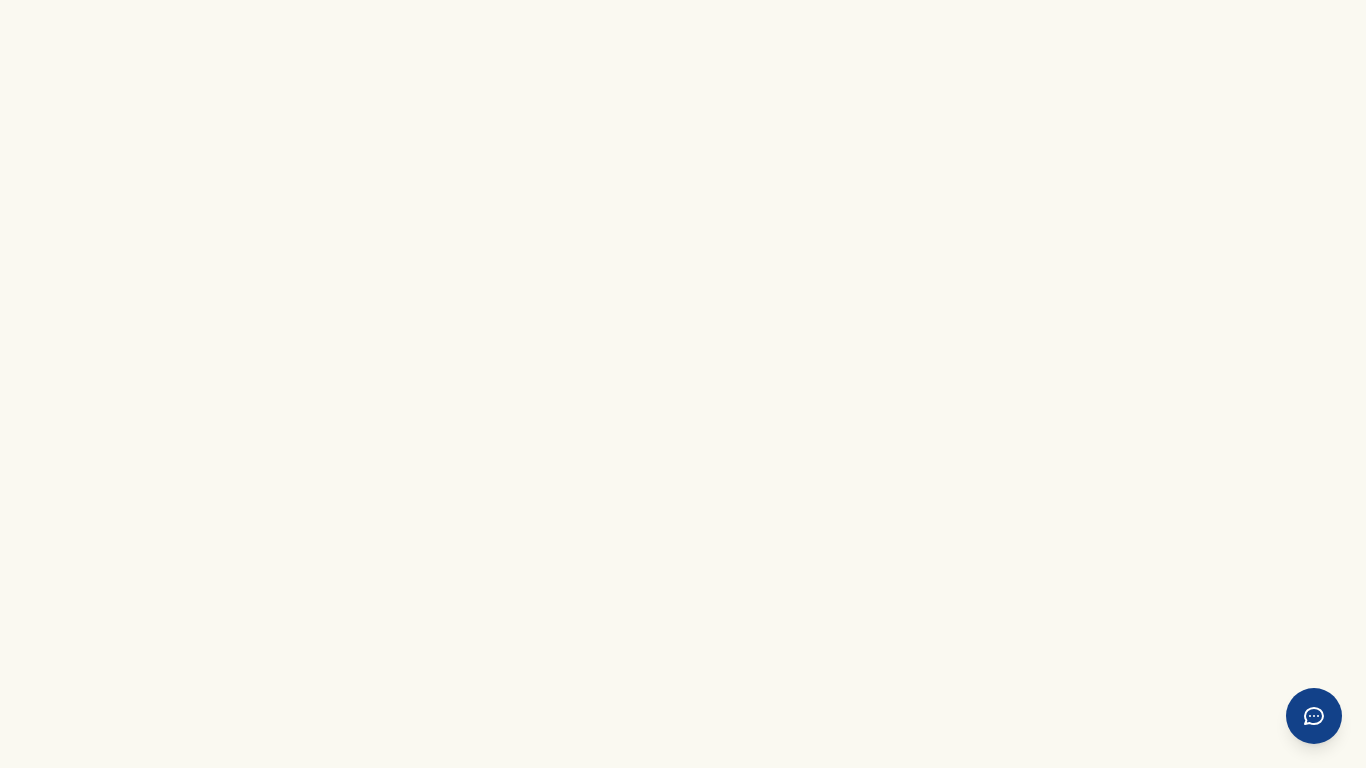
Test case: ConciergeChat › sends a message when Enter is pressed
Click the button named "open concierge" at {"x": 1314, "y": 716}, box [1286,688,1342,744]
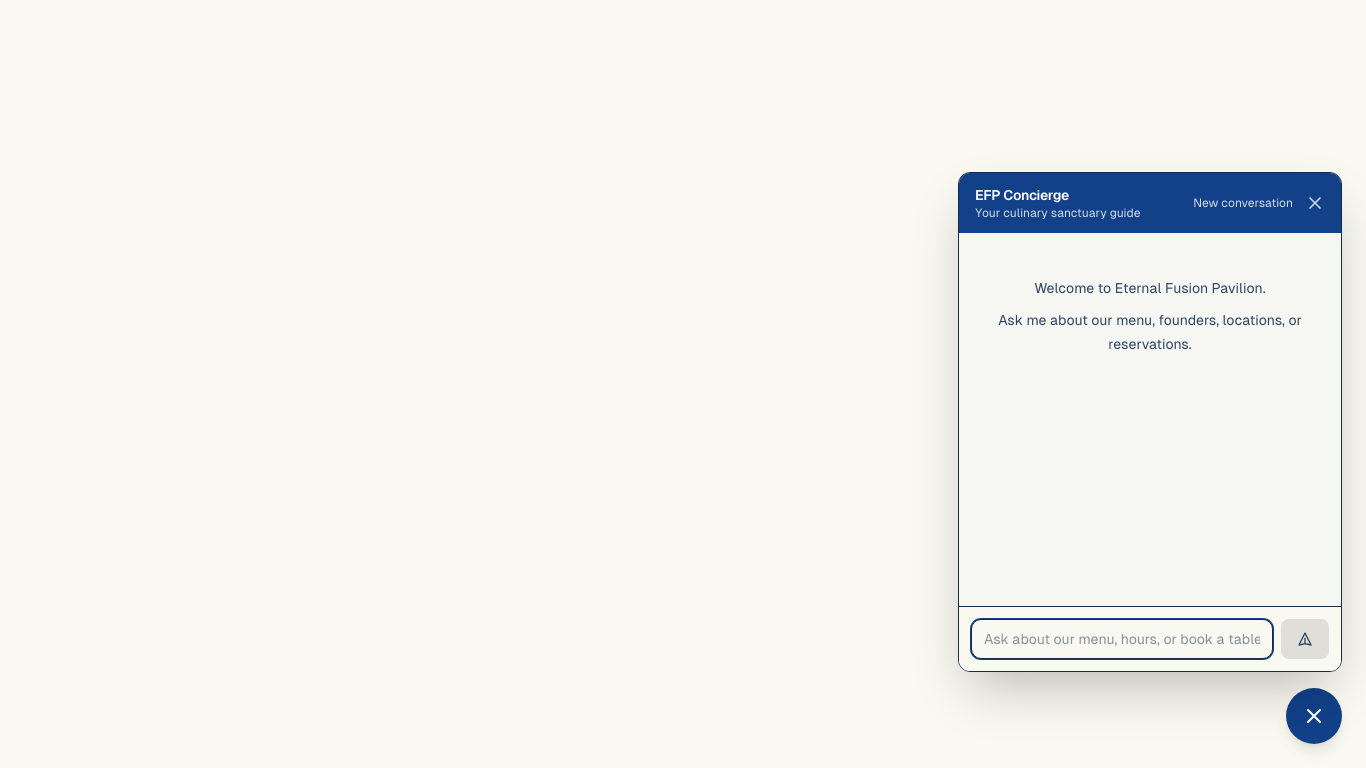
Type "How much is the wagyu?" into the field named "type your message" at {"x": 1122, "y": 639}, box [971,619,1273,659]
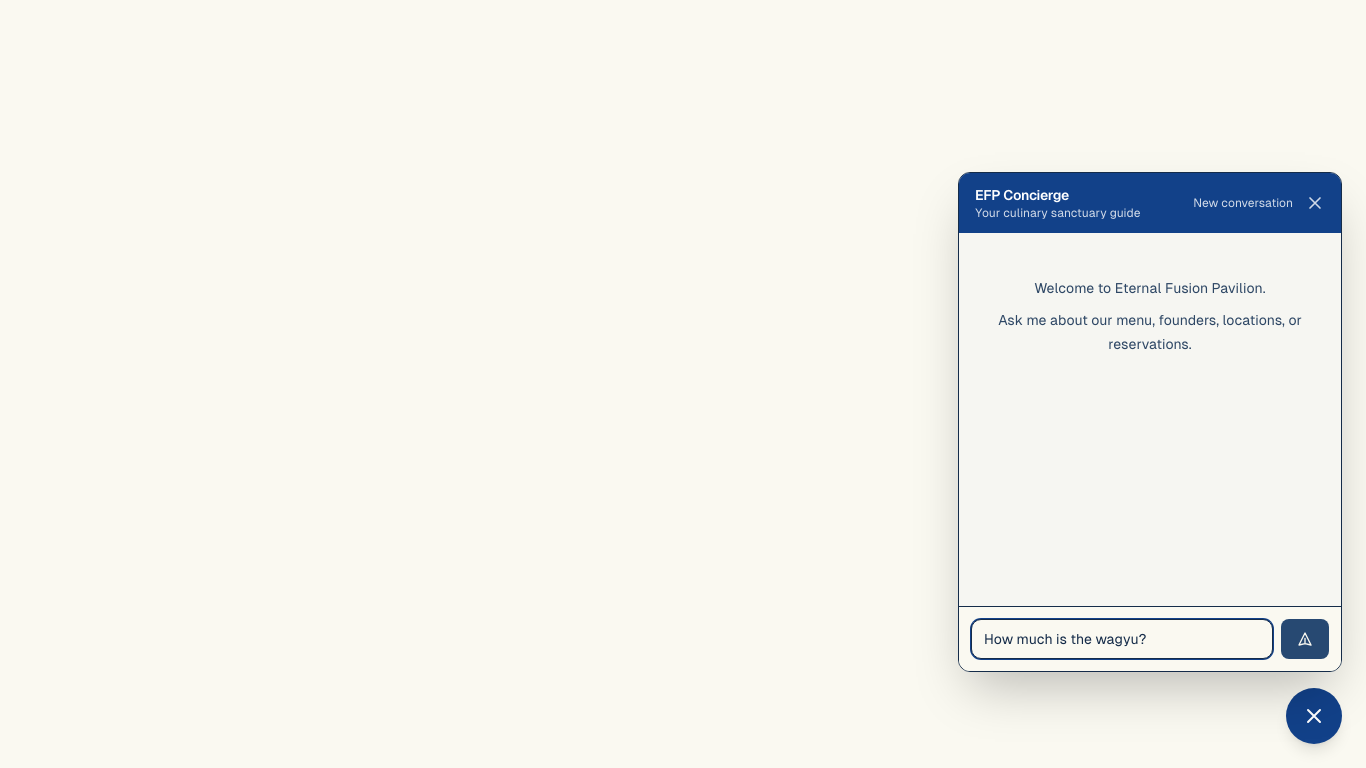
Press Enter in the field named "type your message", box [971,619,1273,659]
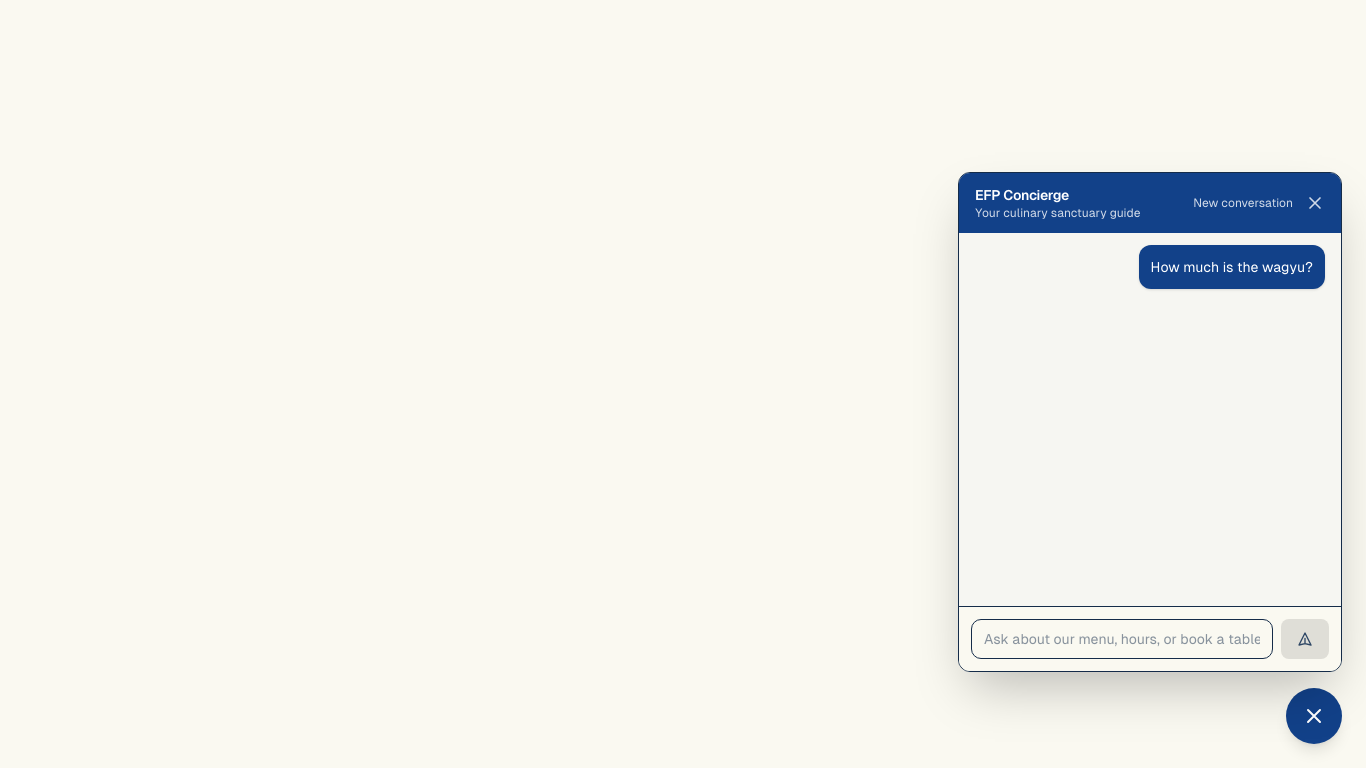
Expected: the text "How much is the wagyu?" is shown, [1139,245,1325,289]
